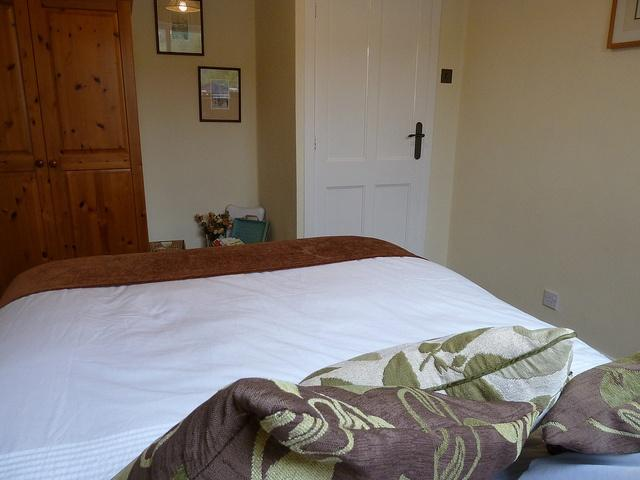Lemari: (0, 0, 150, 283)
